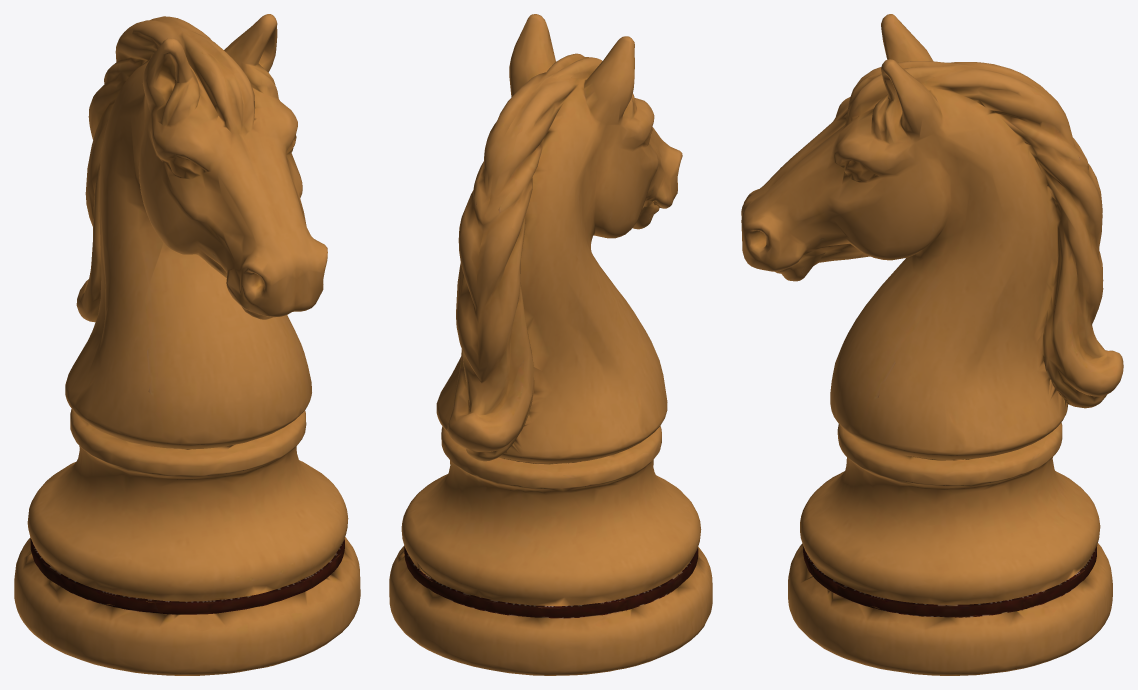
The model's file is knight_light.glb.
3 renders of one model, left to right at view 1: azimuth 30°, elevation 25°; view 2: azimuth 150°, elevation 25°; view 3: azimuth 270°, elevation 25°, orthographic. The views are drawn at different scales.
Parts seen in each view (by area): view 1: geometry_0; view 2: geometry_0; view 3: geometry_0.
Part boxes in pixels (x1=…): geometry_0: x1=14, y1=14, x2=360, y2=675; geometry_0: x1=389, y1=14, x2=712, y2=675; geometry_0: x1=741, y1=14, x2=1123, y2=675.
Bounding box in the file's own units: 0.5204 × 1 × 0.6045.
1 material, 1 textured.
